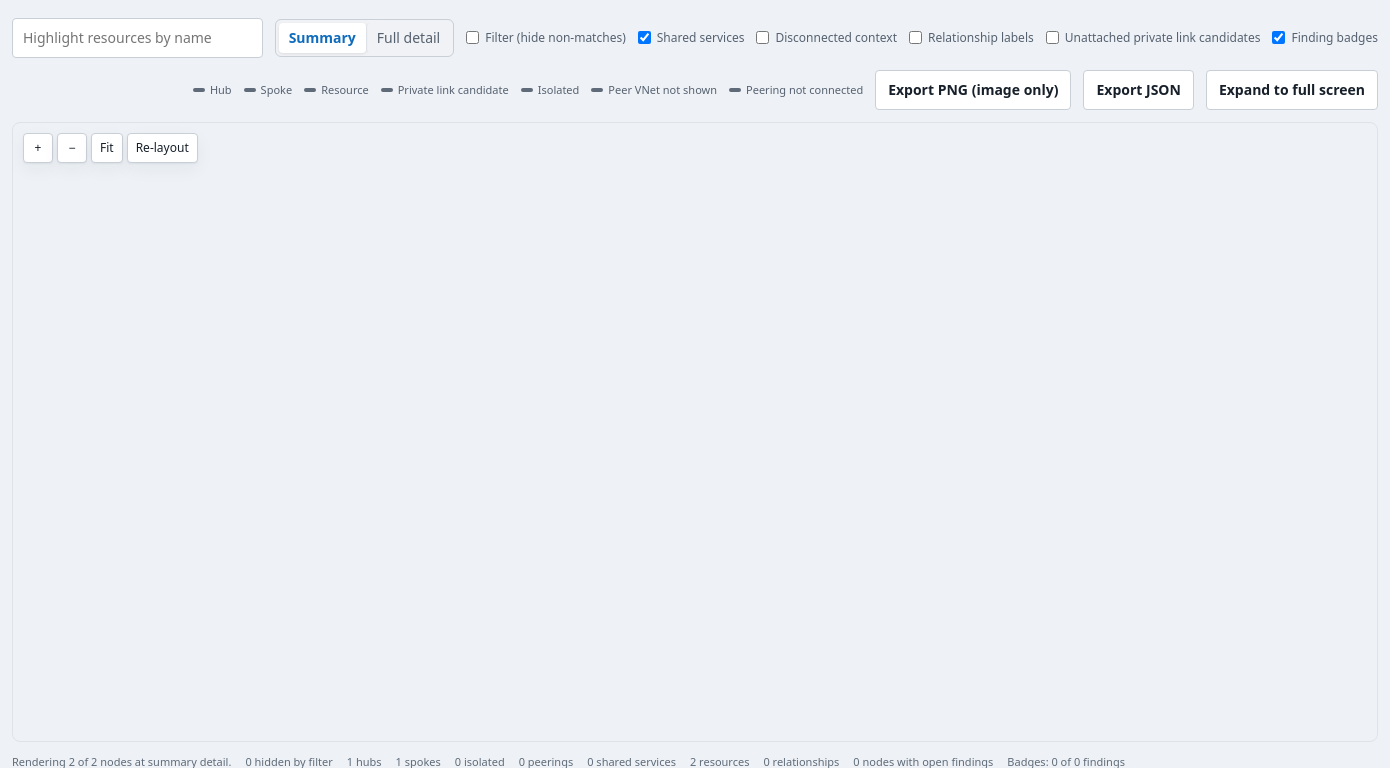
Test case: TopologyWorkspace detail level › also guards full detail when the last server topology build exceeded three seconds
Click the button "Full detail": (408, 38) x1=366 y1=23 x2=450 y2=53
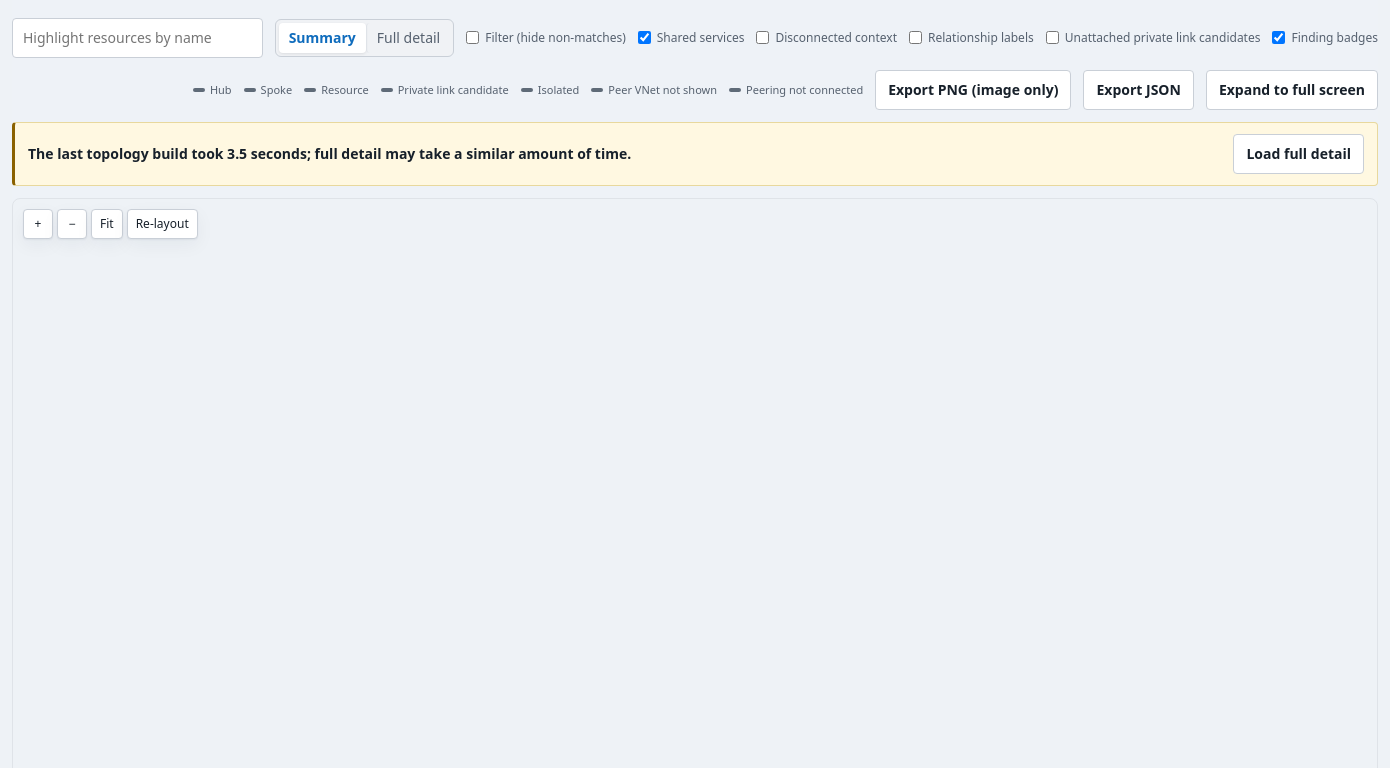
Expected: the message shows "The last topology build took 3.5 seconds", x1=28 y1=144 x2=631 y2=163
